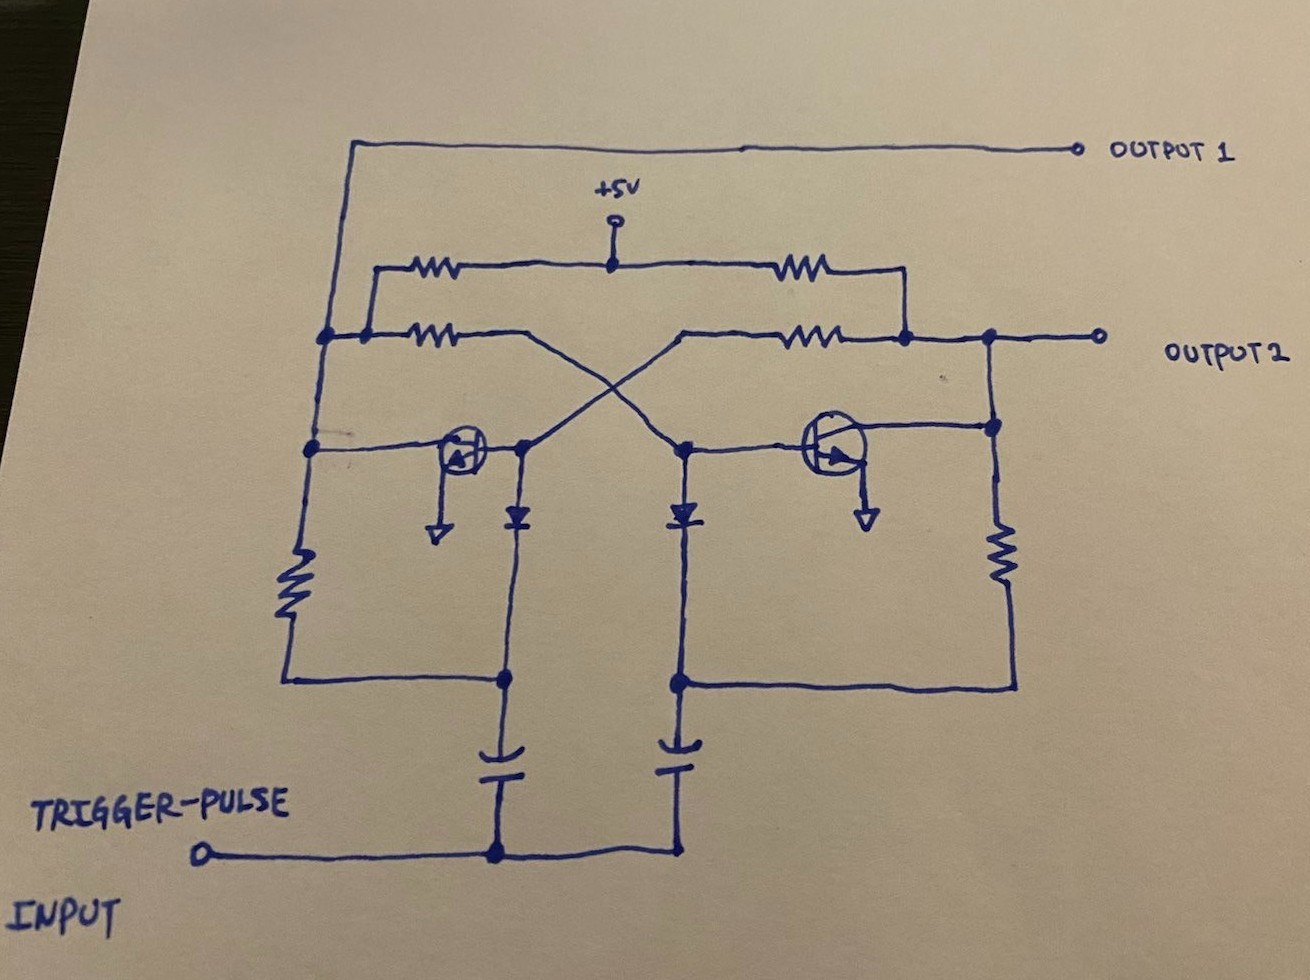capacitor.unpolarized: (471, 742, 536, 792), (651, 734, 713, 783)
diode: (662, 494, 707, 537), (500, 498, 542, 542)
gnd: (846, 492, 890, 538), (418, 509, 458, 553)
junction: (480, 836, 518, 877), (664, 661, 699, 703), (293, 429, 330, 467), (659, 832, 697, 867), (663, 432, 702, 464), (976, 411, 1011, 443), (506, 432, 538, 464), (487, 663, 519, 693), (890, 321, 919, 354), (339, 131, 371, 159), (597, 373, 627, 402), (596, 251, 627, 280), (272, 665, 303, 694), (976, 323, 1003, 354), (1000, 674, 1028, 703), (668, 319, 695, 349), (353, 321, 380, 349), (313, 320, 338, 349), (514, 321, 535, 345), (894, 256, 914, 281), (368, 257, 389, 278)
resistor: (271, 545, 319, 625), (983, 517, 1022, 593), (770, 320, 848, 354), (765, 249, 836, 285), (403, 251, 470, 285), (403, 316, 464, 351)
terminal: (182, 837, 257, 877), (1057, 322, 1127, 351), (1042, 133, 1094, 161), (595, 211, 629, 242)
text: (22, 783, 298, 832), (1, 895, 128, 941), (1106, 133, 1242, 170), (1161, 336, 1295, 372), (593, 168, 645, 206)
transistor: (796, 407, 875, 480), (431, 419, 494, 479)
